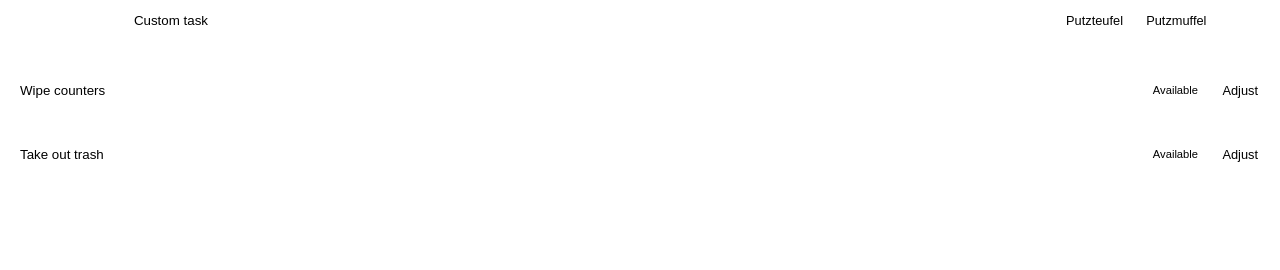
Test: TaskTemplatePicker.vue › toggles the override form
The image size is (1280, 270).
Click the button with test id "picker-adjust-kitchen_counters" at (1240,90), box [1216,68,1264,112]
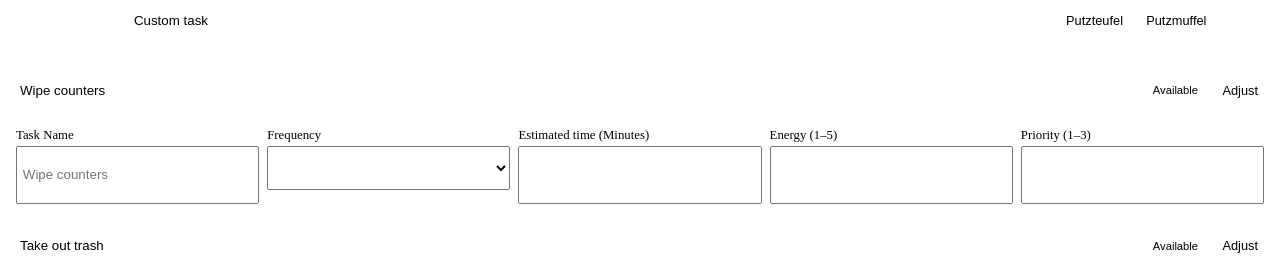
Check: the element with test id "picker-overrides-kitchen_counters" is shown, box [16,128,1264,204]
